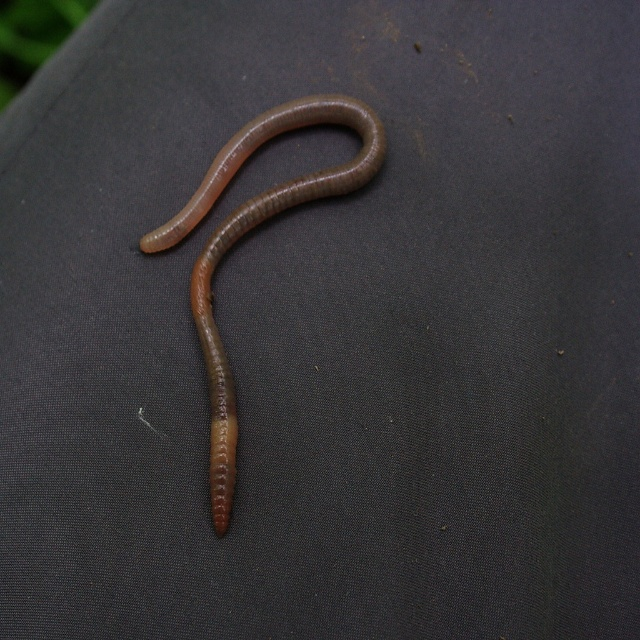Snake: (130, 94, 389, 533)
